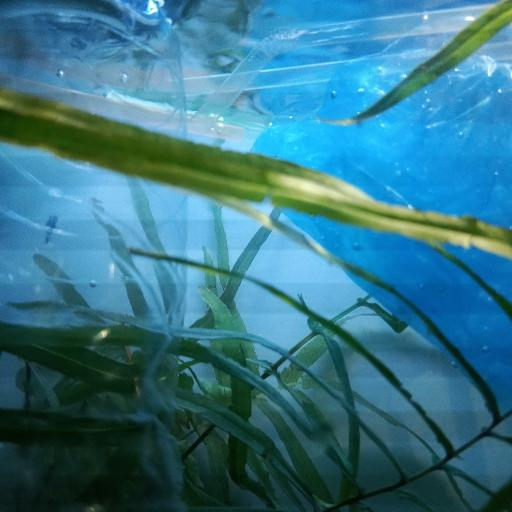plastic_bag: (236, 0, 512, 405)
plastic_bottle: (1, 0, 193, 512)
plastic_straw: (193, 7, 512, 126), (186, 46, 512, 96)
